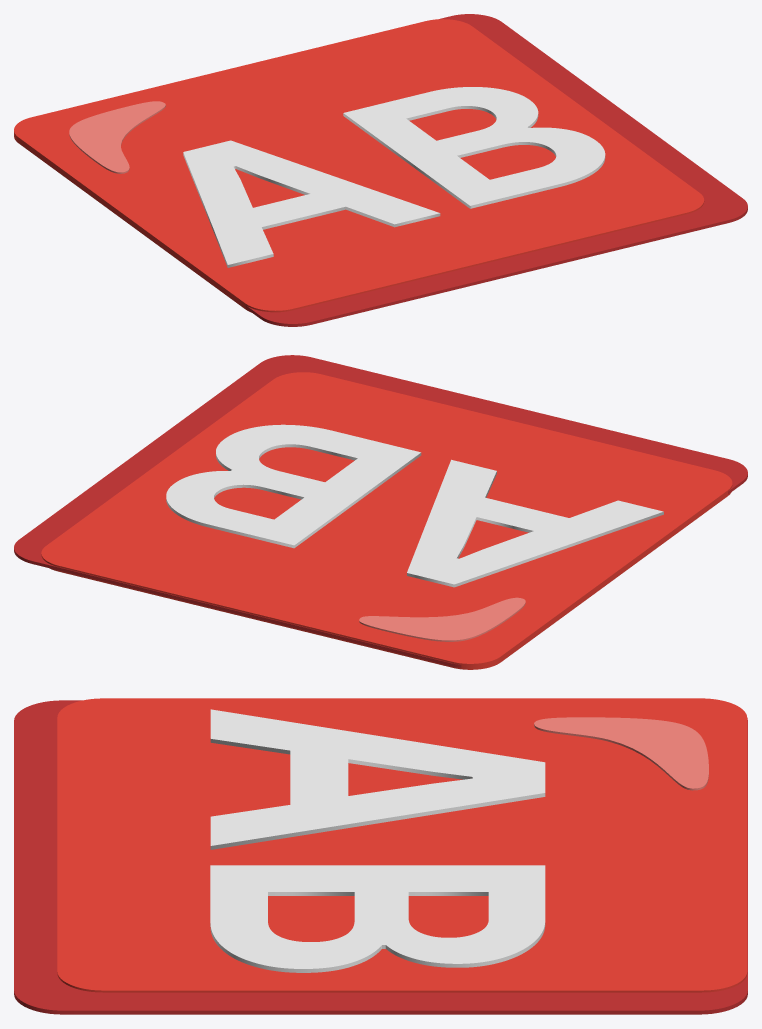
Rendered from emoji_u1f18e.glb.
3 renders of one model, top to bottom at view 1: azimuth 30°, elevation 25°; view 2: azimuth 150°, elevation 25°; view 3: azimuth 270°, elevation 25°, orthographic. The views are drawn at different scales.
Visible parts, largest first — view 1: emoji_u1f18e; view 2: emoji_u1f18e; view 3: emoji_u1f18e.
Part boxes in pixels (box(x1,y1,x2,y2)): emoji_u1f18e: box(14, 14, 747, 326); emoji_u1f18e: box(14, 355, 747, 669); emoji_u1f18e: box(14, 698, 747, 1014).
Bounding box in the file's own units: 0.0339 × 0.0008 × 0.0339.
